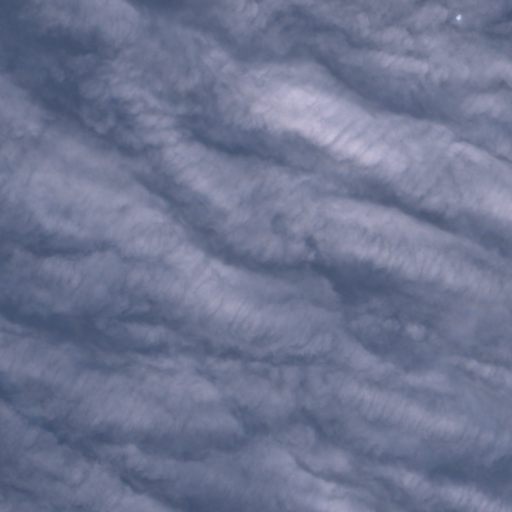Iceberg: (457, 15, 460, 19)
